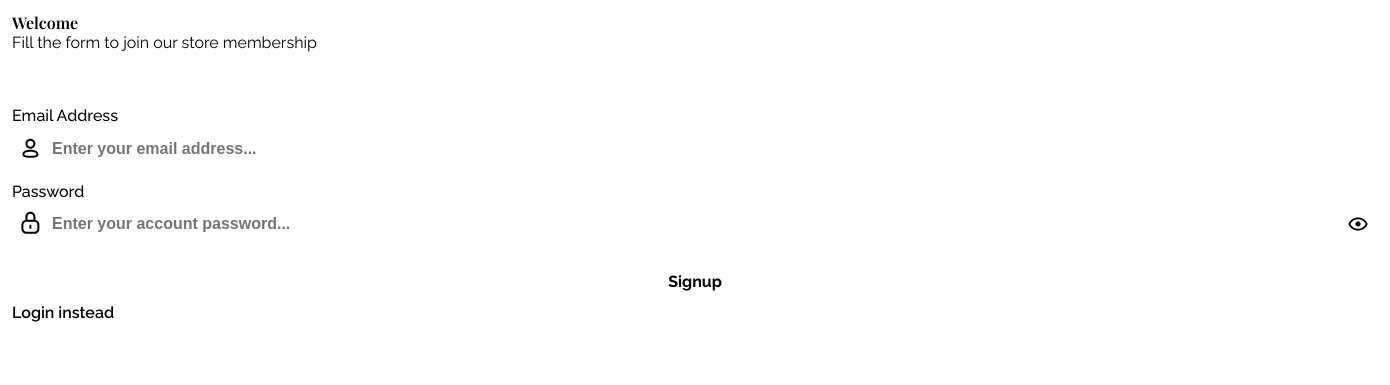
it: Test Component : Signupform › if email has not a valid form show error
Type "123" into the password field with test id "signupformPasswordInput".
click(695, 224); type("123")  # box x1=12 y1=207 x2=1378 y2=241
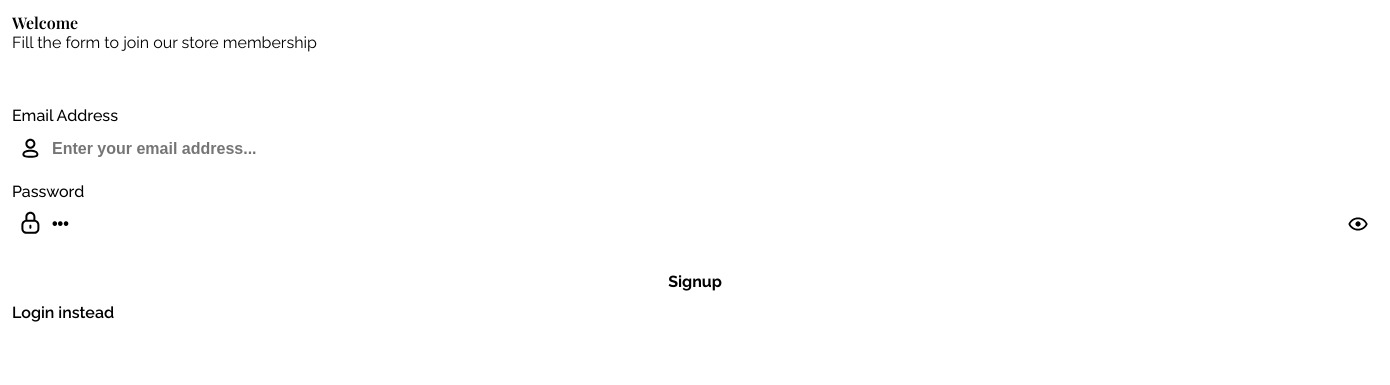
Type "sdwqd" into the field with test id "signupformEmailInput".
click(695, 149); type("sdwqd")  # box x1=12 y1=132 x2=1378 y2=166
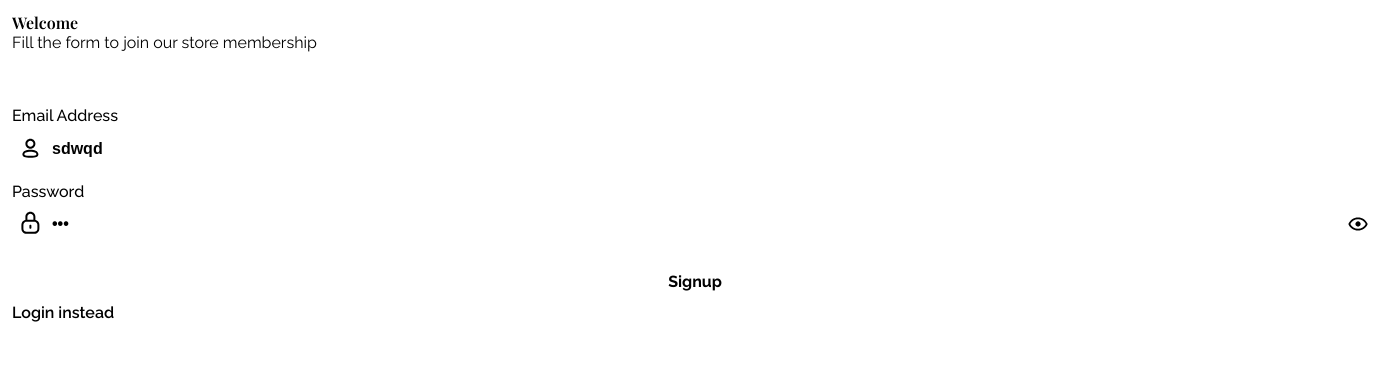
Click the button with test id "signupformSignupButton".
click(695, 281)  # box x1=12 y1=265 x2=1378 y2=297
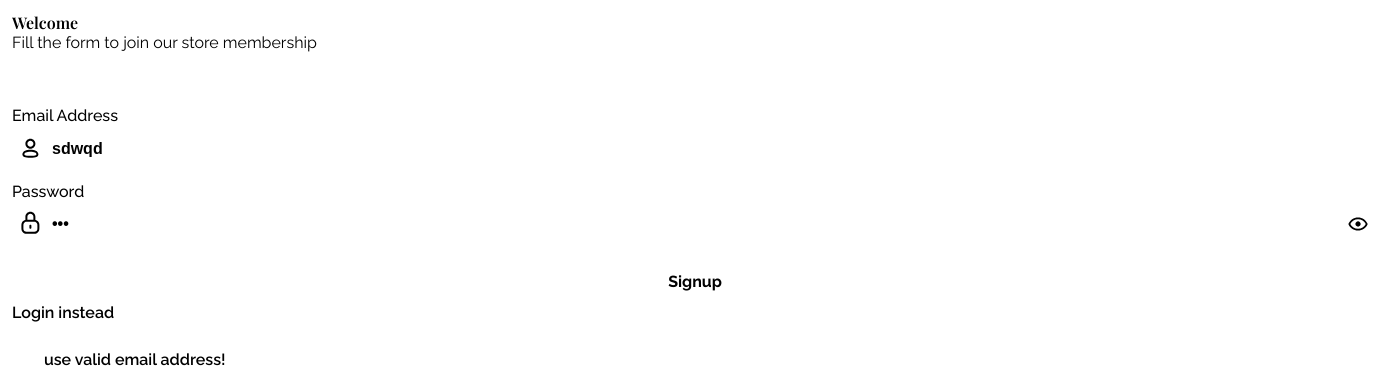
Check: the element with test id "errorMessage" reads "use valid email address!", box x1=44 y1=350 x2=226 y2=368
